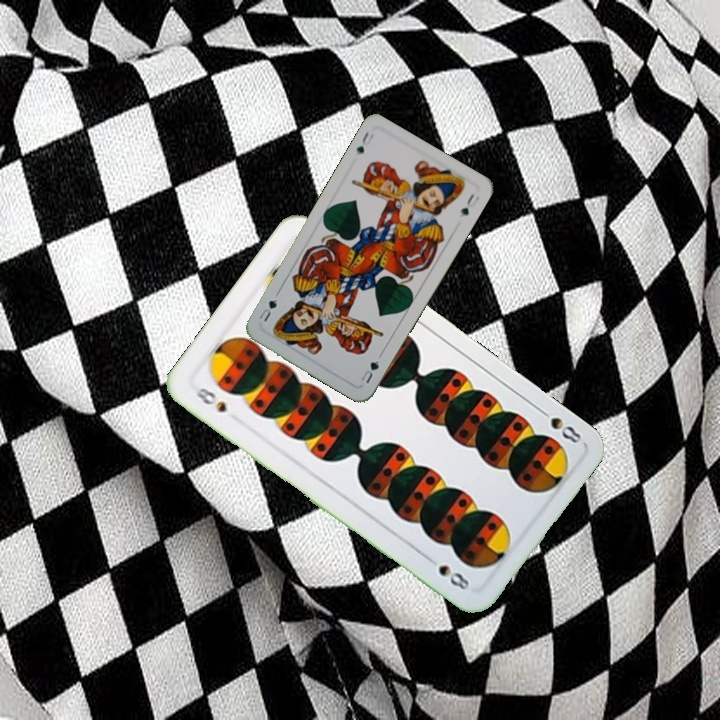GU: (357, 351, 384, 386), (352, 128, 376, 156)
S8: (533, 403, 586, 446), (191, 383, 229, 416)
